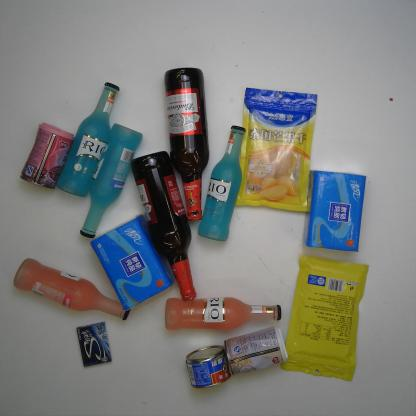Alcohol: (128, 148, 198, 304), (12, 256, 133, 324), (161, 66, 212, 221), (55, 79, 120, 199), (78, 121, 142, 239), (197, 124, 246, 243), (162, 294, 283, 333)
Canned Food: (20, 120, 75, 192), (224, 324, 289, 376), (185, 343, 232, 391)
Dried Fruit: (276, 253, 374, 382), (230, 86, 322, 214)
Gum: (74, 317, 114, 370)
Tissue: (88, 214, 175, 312), (299, 166, 371, 256)
